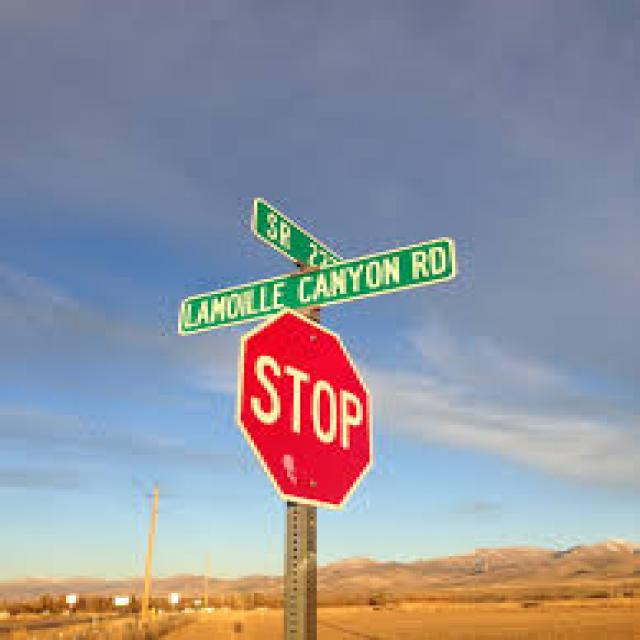stop-sign: (164, 282, 483, 538)
